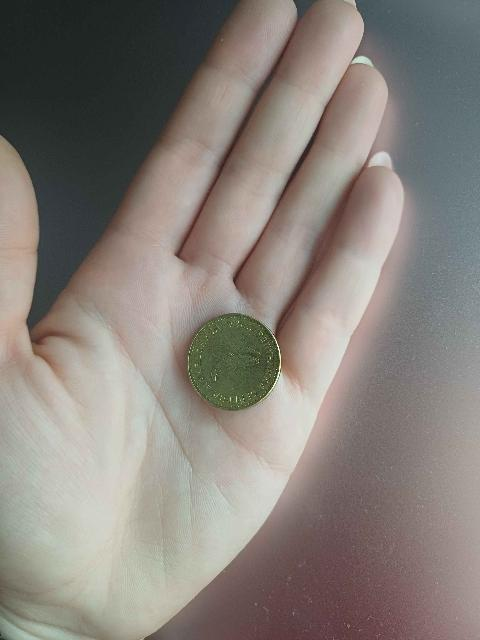coin: (188, 314, 280, 409)
